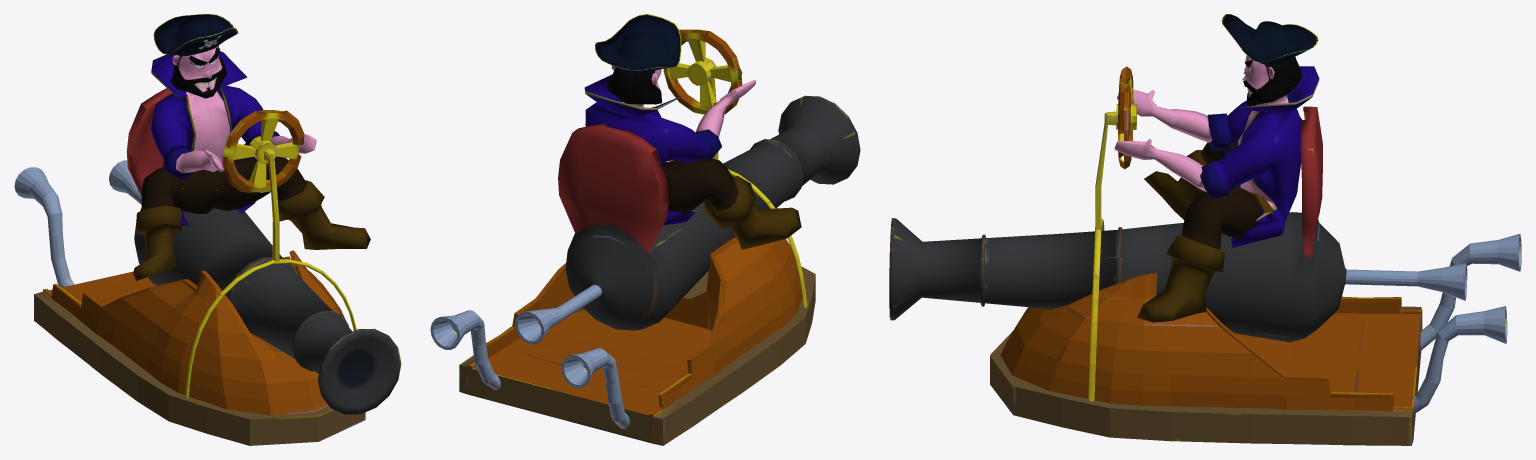
Rendered from pirataGiroDER_000249.obj.
3 renders of one model, left to right at view 1: azimuth 30°, elevation 25°; view 2: azimuth 150°, elevation 25°; view 3: azimuth 270°, elevation 25°, orthographic. The views are drawn at different scales.
Parts seen in each view (by area): view 1: carro_pirata, Pirata_PirataH; view 2: carro_pirata, Pirata_PirataH; view 3: carro_pirata, Pirata_PirataH.
Part boxes in pixels (x1=…): carro_pirata: x1=14, y1=88, x2=401, y2=445; Pirata_PirataH: x1=133, y1=14, x2=370, y2=280; carro_pirata: x1=430, y1=29, x2=860, y2=445; Pirata_PirataH: x1=584, y1=14, x2=801, y2=249; carro_pirata: x1=889, y1=66, x2=1521, y2=445; Pirata_PirataH: x1=1114, y1=14, x2=1319, y2=322.
Size of the model in its own units: 5.66 by 7.72 by 12.1.
2 materials, 2 textured.
